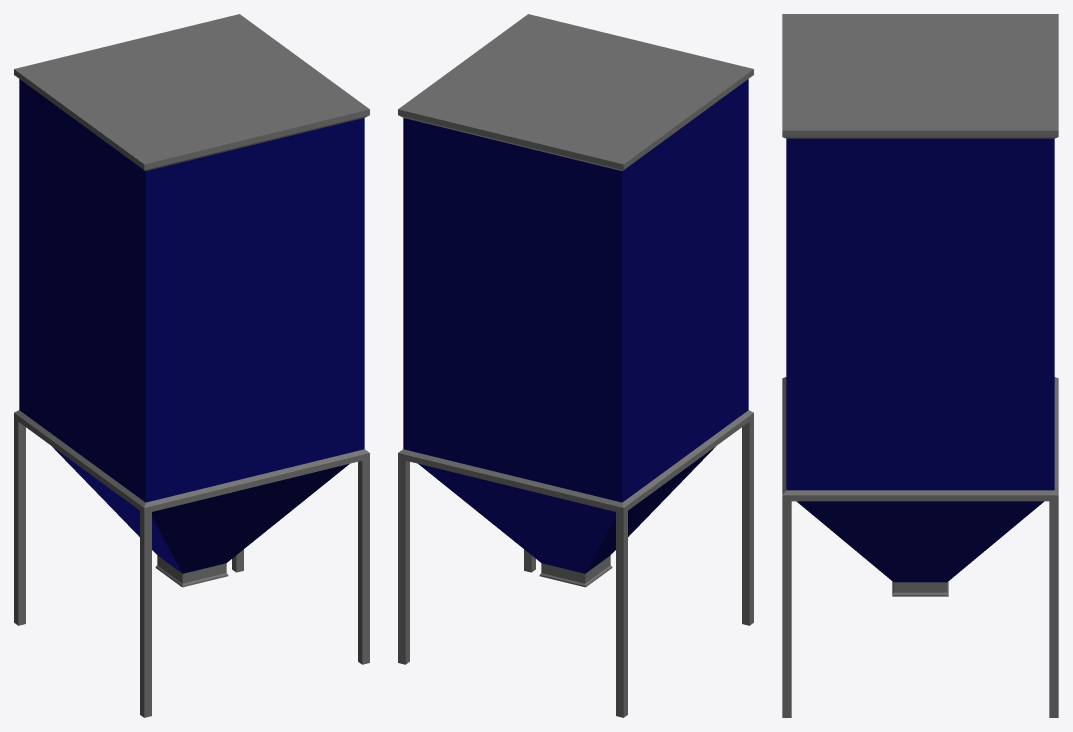
Rendered from Prop_Industrial_Vat_Tank_Square_01.FBX.
3 renders of one model, left to right at view 1: azimuth 30°, elevation 25°; view 2: azimuth 150°, elevation 25°; view 3: azimuth 270°, elevation 25°, orthographic. The views are drawn at different scales.
Parts seen in each view (by area): view 1: Prop_Industrial_Vat_Tank_Square_01; view 2: Prop_Industrial_Vat_Tank_Square_01; view 3: Prop_Industrial_Vat_Tank_Square_01.
Part boxes in pixels (<box>): Prop_Industrial_Vat_Tank_Square_01: <box>14,14,369,717</box>; Prop_Industrial_Vat_Tank_Square_01: <box>398,14,753,717</box>; Prop_Industrial_Vat_Tank_Square_01: <box>782,14,1058,717</box>.
Size of the model in its own units: 2075 by 4863 by 2075.
